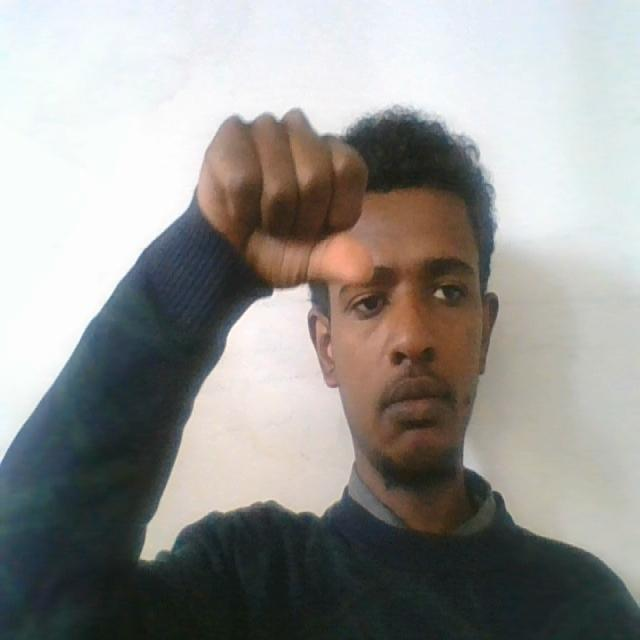yes: (192, 98, 378, 294)
